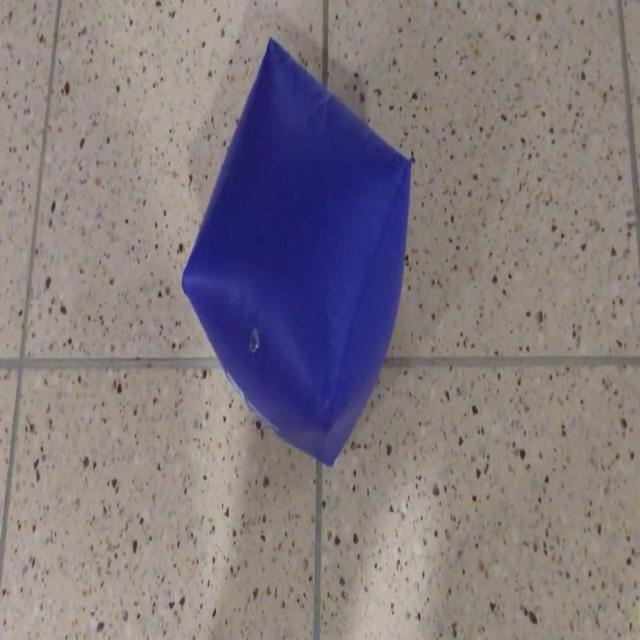frc_cube: (181, 36, 410, 468)
